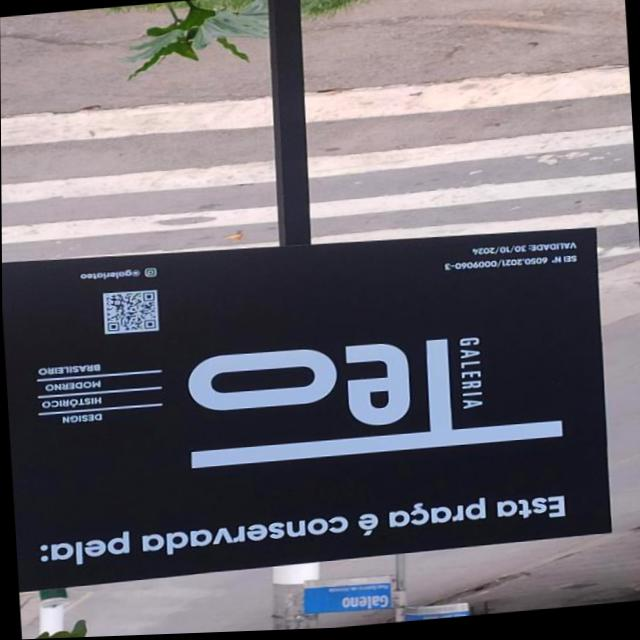qrcode: (104, 291, 155, 335)
